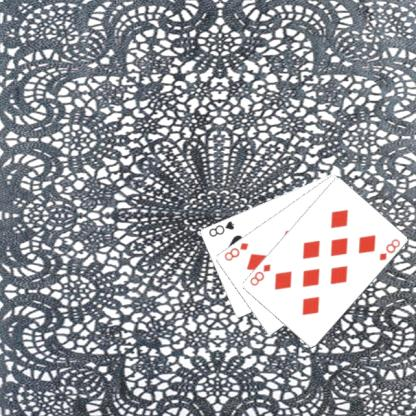8D: (248, 261, 274, 287), (378, 236, 403, 262), (223, 240, 251, 262)
8S: (207, 218, 238, 238)
